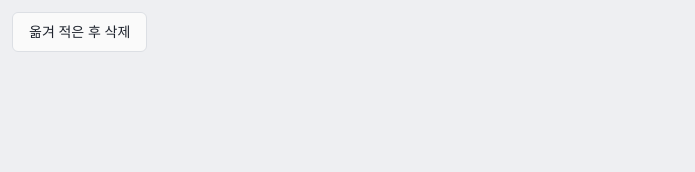
Test case: failure keeps memo and reports recovery guidance
What coordinates should you click on to do the following:
click the button
I would click on:
 (80, 32)
Its box is [12, 12, 147, 52].
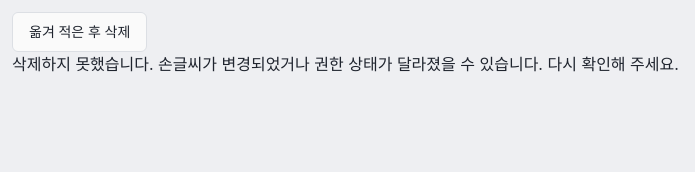
Expected: the message shows "손글씨가 변경되었거나 권한 상태가 달라졌을 수 있습니다", [12, 54, 679, 74]
